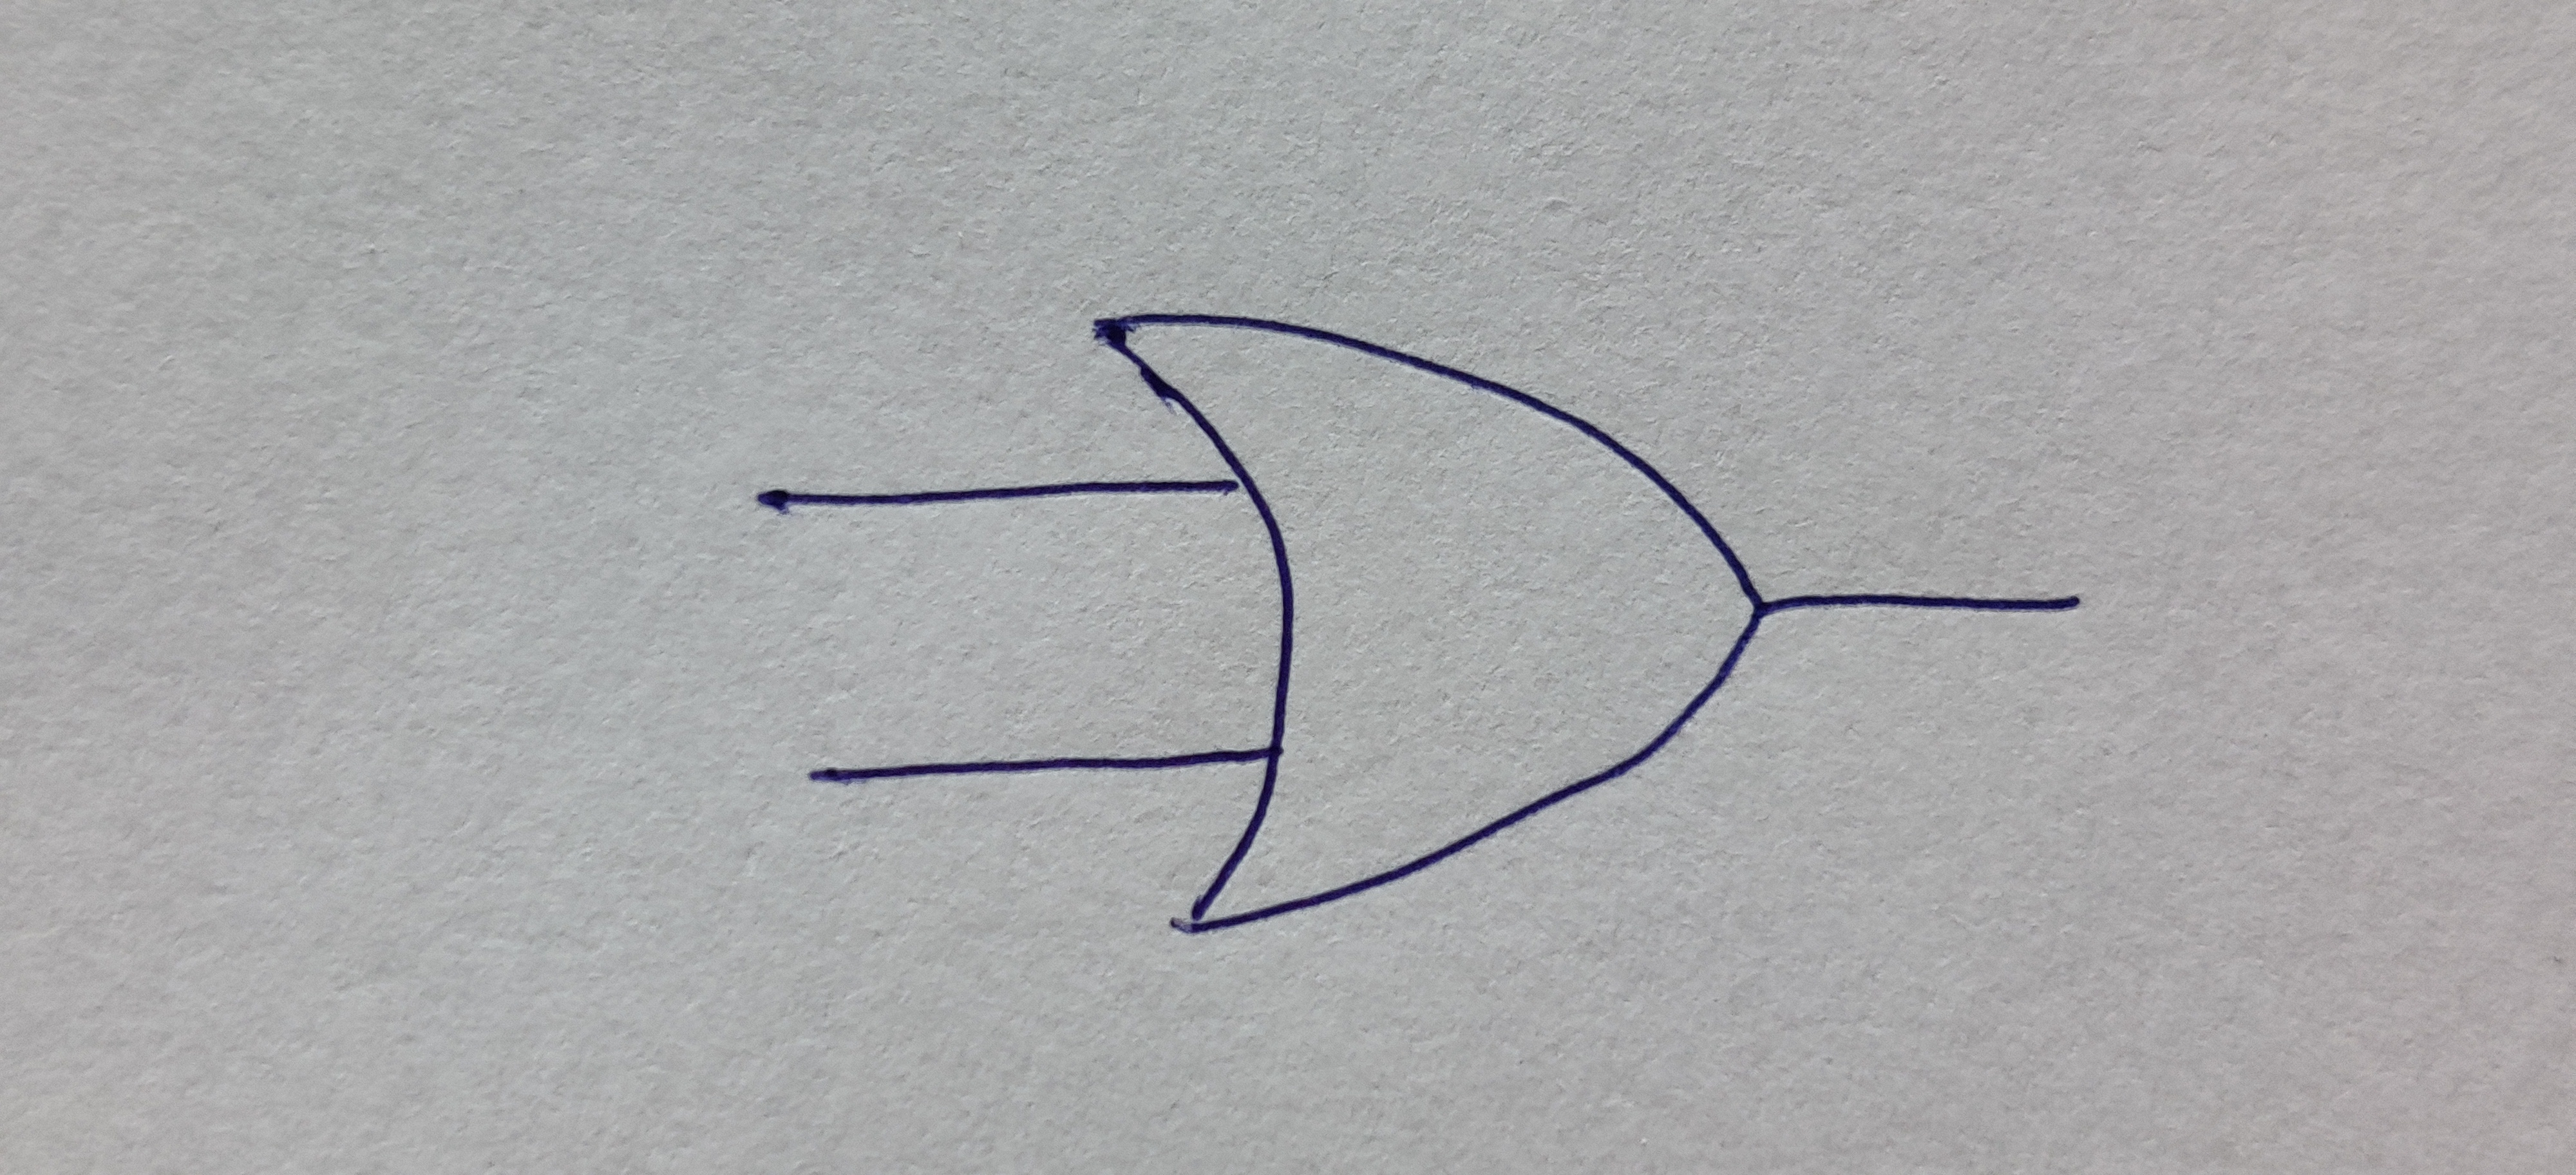or: (1099, 316, 1763, 927)
